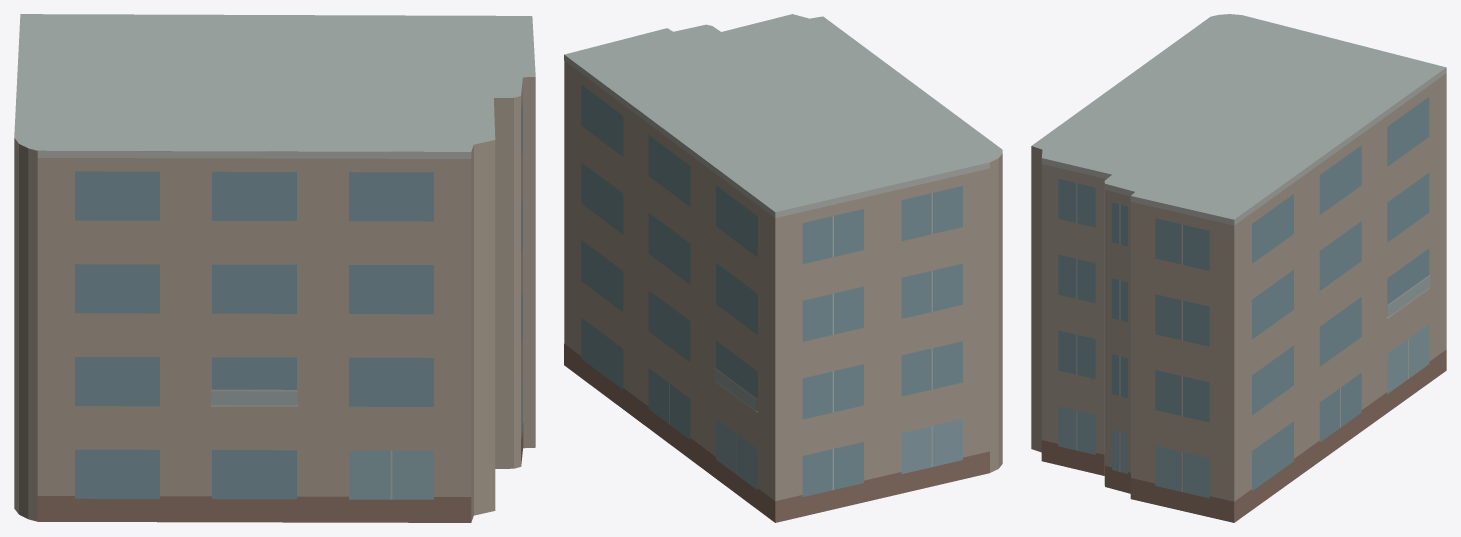
Rendered from survey-upis-32666946.glb.
The picture shows the model from 3 angles, left to right: view 1: azimuth 30°, elevation 25°; view 2: azimuth 150°, elevation 25°; view 3: azimuth 270°, elevation 25°; orthographic projection. The views are drawn at different scales.
Parts seen in each view (by area): view 1: survey-upis-32666946.tmp; view 2: survey-upis-32666946.tmp; view 3: survey-upis-32666946.tmp.
Boxes of the visible parts, x1,y1,x2,y2 form: survey-upis-32666946.tmp: (14,14,535,522); survey-upis-32666946.tmp: (564,14,1002,522); survey-upis-32666946.tmp: (1031,14,1446,522).
Bounding box in the file's own units: 18.49 × 12.7 × 15.77.
